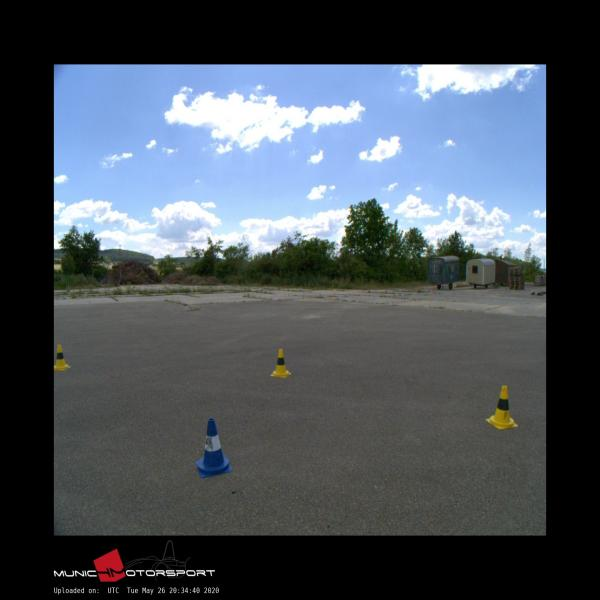blue_cone: (196, 418, 232, 476)
yellow_cone: (485, 385, 517, 428), (270, 349, 290, 376), (55, 344, 70, 370)
